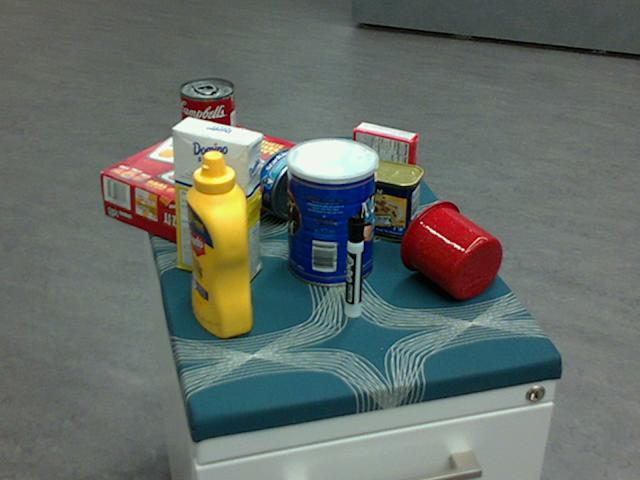cracker_box: (99, 116, 301, 255)
gelatin_box: (353, 122, 419, 188)
large_marker: (346, 214, 363, 318)
master_chef_can: (285, 137, 377, 286)
mug: (400, 199, 503, 299)
mustard_bottle: (186, 151, 251, 338)
potted_meat_can: (337, 155, 422, 239)
sugar_box: (171, 117, 261, 286)
tomato_soup_can: (178, 78, 237, 174)
tuna_fish_can: (253, 148, 317, 218)
